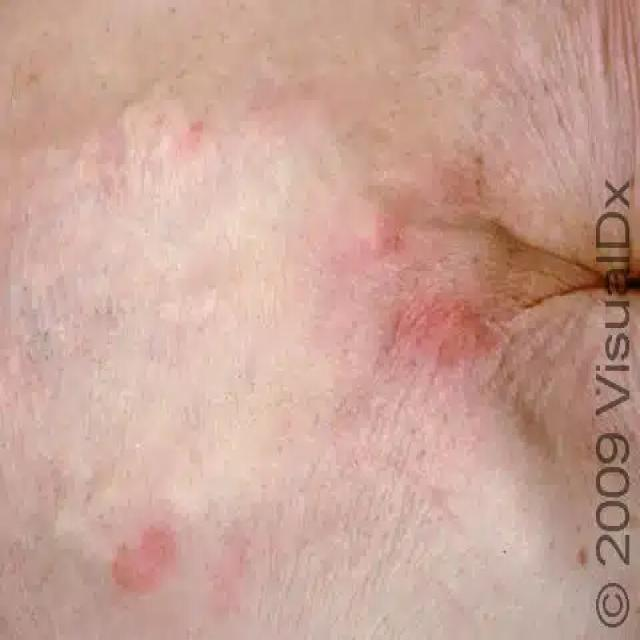stage-1: (393, 293, 496, 368), (112, 521, 182, 593)
